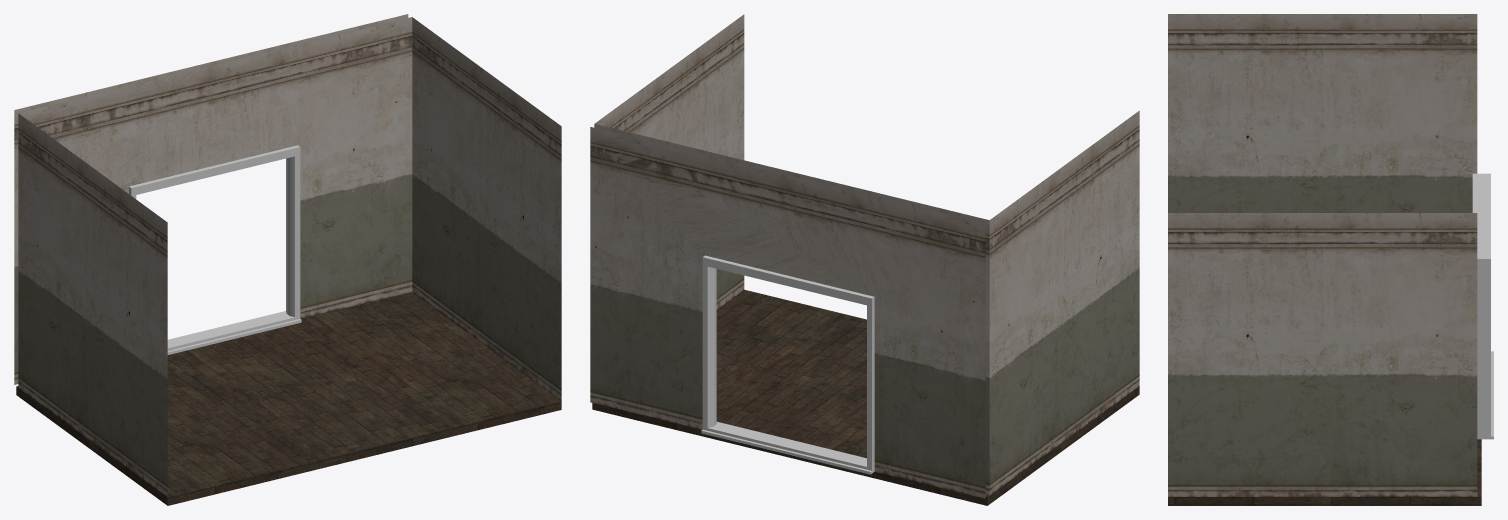
The model's file is hallway_end_double_door.fbx.
The picture shows the model from 3 angles, left to right: view 1: azimuth 30°, elevation 25°; view 2: azimuth 150°, elevation 25°; view 3: azimuth 270°, elevation 25°; orthographic projection. The views are drawn at different scales.
Visible parts, largest first — view 1: hallway_end_double_door; view 2: hallway_end_double_door; view 3: hallway_end_double_door.
Boxes of the visible parts, box(x1,y1,x2,y2) form: hallway_end_double_door: box(14, 14, 561, 505); hallway_end_double_door: box(590, 14, 1139, 505); hallway_end_double_door: box(1168, 14, 1493, 505).
Bounding box in the file's own units: 600 × 412 × 416.
